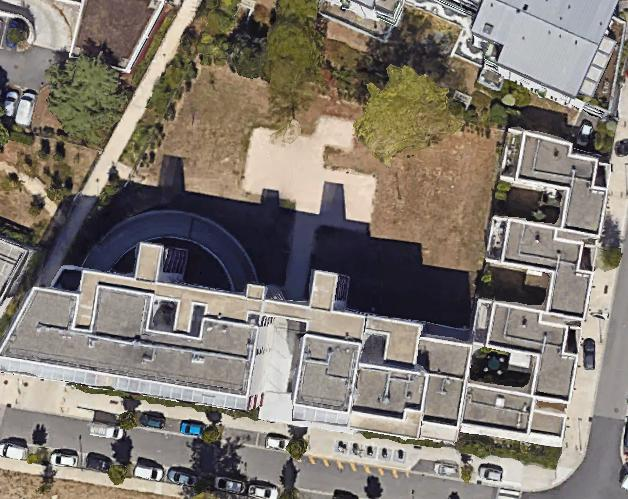immeuble: (0, 225, 479, 445), (454, 127, 614, 448), (459, 0, 616, 96), (0, 235, 34, 310), (325, 0, 404, 25)
